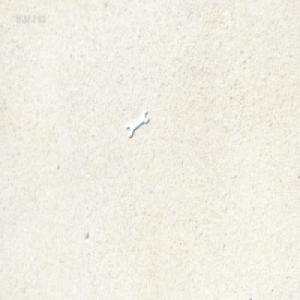Wrench: (129, 109, 151, 137)
